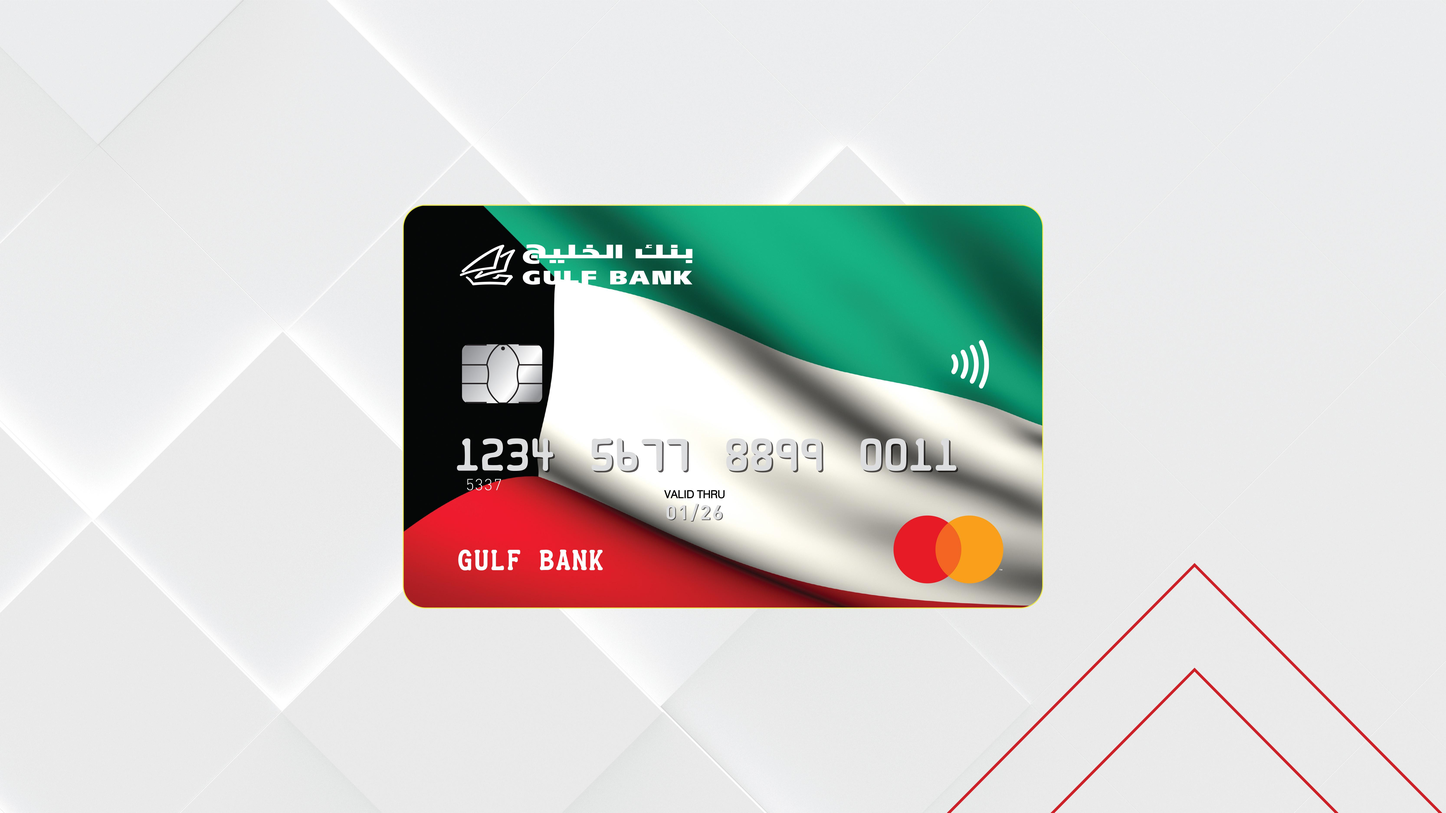Credit_card: (404, 206, 1043, 608)
